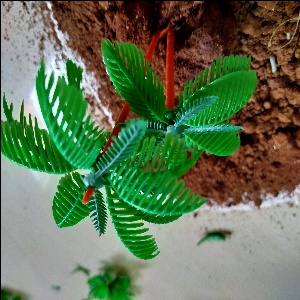plant: (3, 72, 200, 263), (85, 24, 254, 172)
